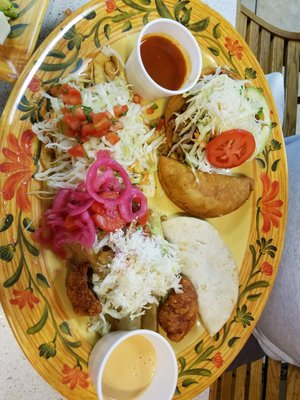sushi: (88, 329, 179, 400)
